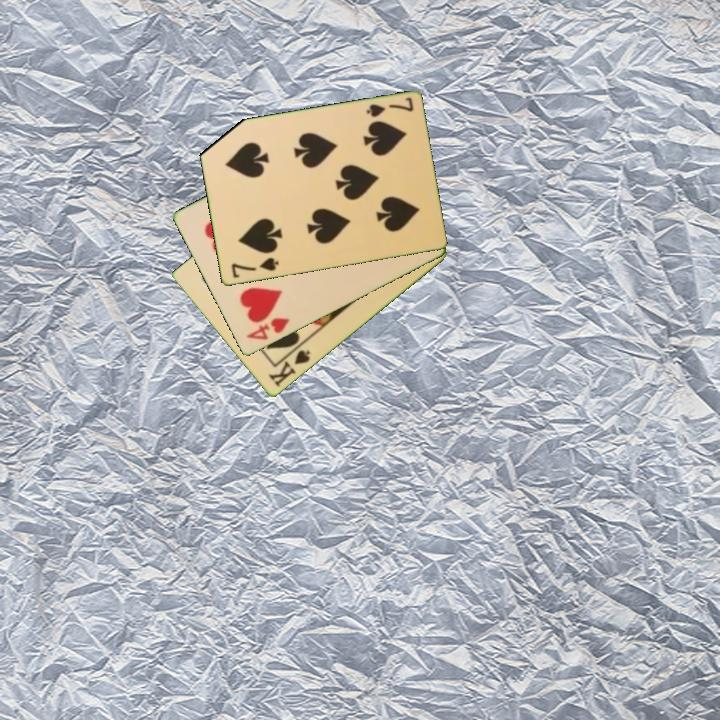4h: (243, 314, 292, 344)
7s: (227, 254, 282, 281), (362, 94, 416, 121)
Ks: (265, 341, 313, 390)
